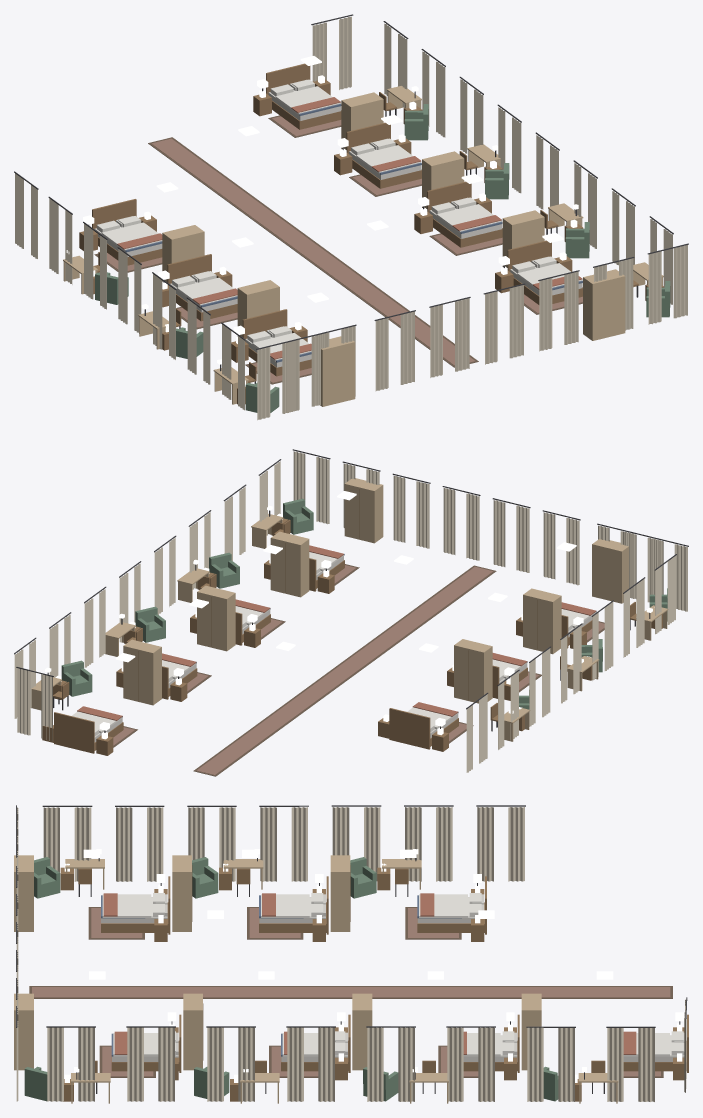
The model's file is fine-s4.glb.
3 renders of one model, top to bottom at view 1: azimuth 30°, elevation 25°; view 2: azimuth 150°, elevation 25°; view 3: azimuth 270°, elevation 25°, orthographic. The views are drawn at different scales.
Parts seen in each view (by area): view 1: soft-s4, dresser.027, dresser.023, bed-frame.025, bed-frame.026, bed-frame.024, bed-frame.022, bed-frame.021, bed-frame.027, dresser.021, dresser.022, dresser.026 (+6 smaller); view 2: soft-s4, dresser.026, dresser.022, dresser.027, dresser.025, dresser.024, dresser.021, dresser.023, bed-frame.021, bed-frame.024, lounge-chair.024, lounge-chair.026 (+6 smaller); view 3: soft-s4, dresser.021, dresser.022, dresser.026, dresser.027, dresser.023, dresser.025, bed-frame.023, bed-frame.022, bed-frame.021, dresser.024, lounge-chair.021 (+12 smaller).
Boxes of the visible parts, left/top/right/bottom form: soft-s4: left=14, top=14, right=688, bottom=420; dresser.027: left=583, top=269, right=625, bottom=340; dresser.023: left=320, top=336, right=355, bottom=406; bed-frame.025: left=346, top=122, right=421, bottom=188; bed-frame.026: left=427, top=181, right=502, bottom=247; bed-frame.024: left=266, top=63, right=341, bottom=129; bed-frame.022: left=167, top=254, right=237, bottom=321; bed-frame.021: left=92, top=199, right=162, bottom=265; bed-frame.027: left=507, top=240, right=582, bottom=304; dresser.021: left=162, top=225, right=204, bottom=281; dresser.022: left=237, top=280, right=279, bottom=336; dresser.026: left=502, top=210, right=544, bottom=267; soft-s4: left=14, top=449, right=688, bottom=776; dresser.026: left=270, top=531, right=309, bottom=597; dresser.022: left=523, top=588, right=561, bottom=654; dresser.027: left=344, top=478, right=383, bottom=543; dresser.025: left=197, top=585, right=235, bottom=651; dresser.024: left=123, top=639, right=161, bottom=705; dresser.021: left=454, top=639, right=492, bottom=703; dresser.023: left=592, top=539, right=628, bottom=603; bed-frame.021: left=389, top=708, right=458, bottom=749; bed-frame.024: left=54, top=712, right=123, bottom=753; lounge-chair.024: left=61, top=660, right=92, bottom=696; lounge-chair.026: left=209, top=552, right=239, bottom=588; soft-s4: left=16, top=805, right=687, bottom=1101; dresser.021: left=330, top=855, right=350, bottom=931; dresser.022: left=172, top=855, right=192, bottom=931; dresser.026: left=183, top=993, right=203, bottom=1070; dresser.027: left=14, top=993, right=33, bottom=1070; dresser.023: left=14, top=855, right=33, bottom=931; dresser.025: left=352, top=993, right=372, bottom=1070; bed-frame.023: left=101, top=876, right=170, bottom=934; bed-frame.022: left=259, top=876, right=328, bottom=934; bed-frame.021: left=417, top=876, right=486, bottom=934; dresser.024: left=521, top=993, right=541, bottom=1070; lounge-chair.021: left=350, top=857, right=376, bottom=898.
Bounding box in the file's own units: 15.91 × 2.63 × 20.41.
